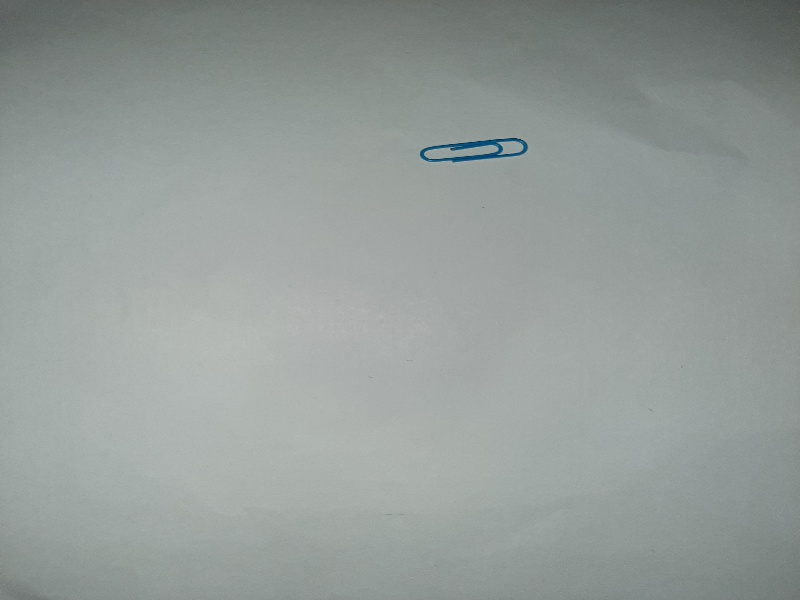Small Jumpclip: (414, 135, 533, 167)
